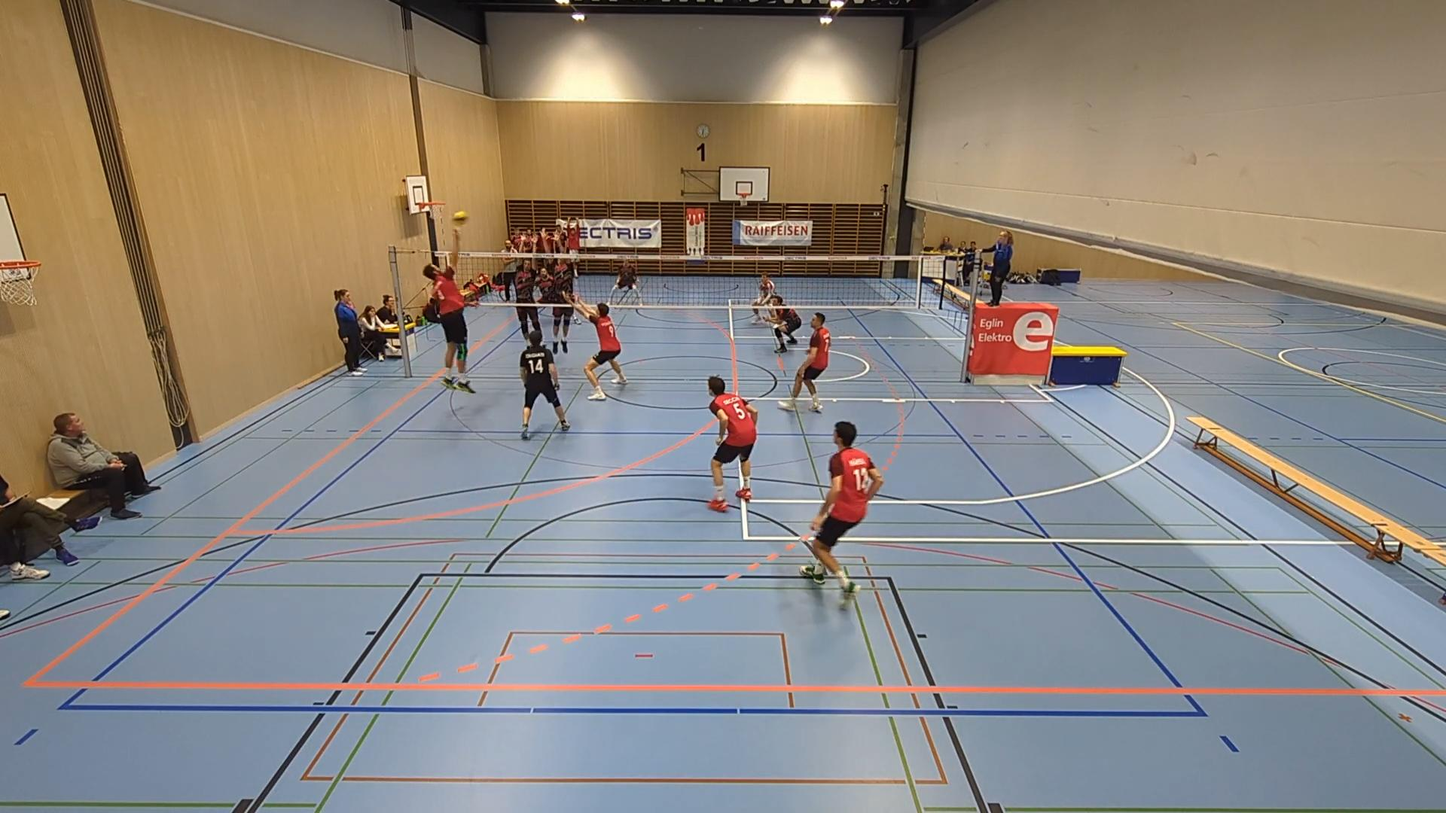Attack: (420, 245, 488, 392)
Block: (537, 222, 575, 357), (507, 227, 540, 348)
Player: (801, 422, 883, 595), (707, 376, 758, 511), (569, 297, 627, 400), (520, 330, 569, 440), (779, 312, 831, 412), (767, 295, 801, 352), (613, 260, 641, 303), (752, 273, 774, 323)
ball: (455, 209, 467, 222)
